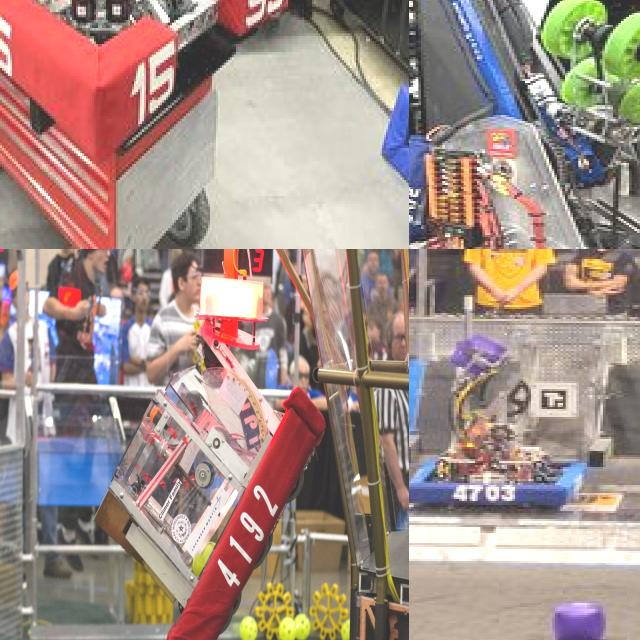FRC-Robots: (100, 281, 329, 640), (409, 0, 640, 249), (0, 0, 333, 114), (409, 361, 614, 529)
